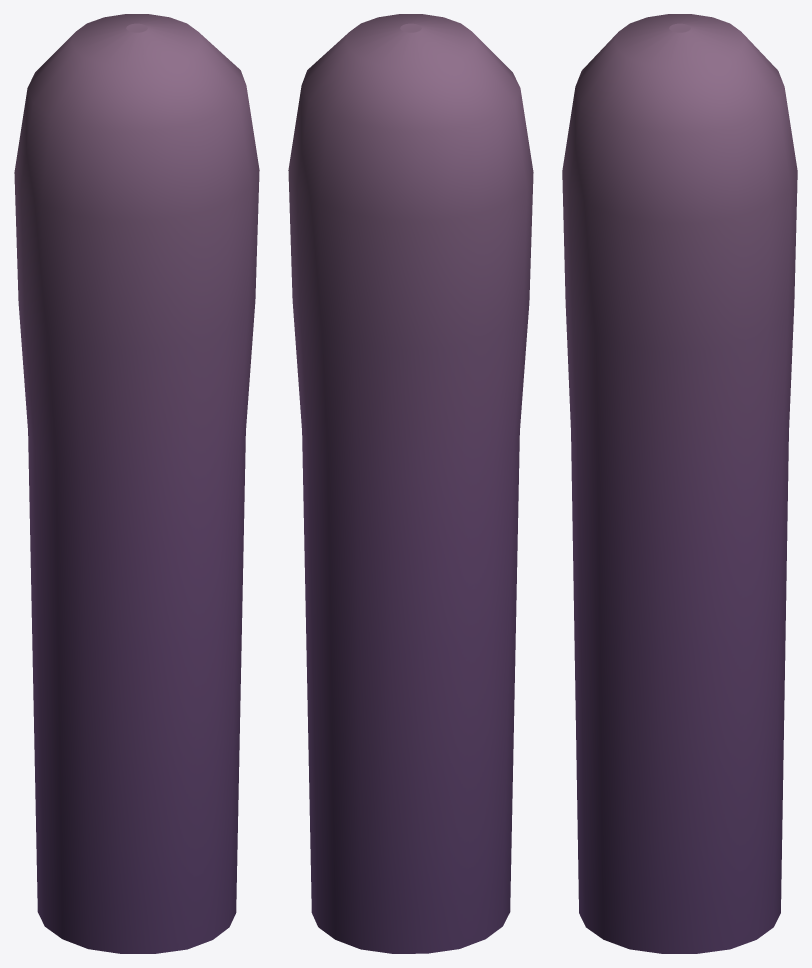
The model's file is merchant_nyra_upper_r.glb.
3 views of the same model, side by side, from view 1: azimuth 30°, elevation 25°; view 2: azimuth 150°, elevation 25°; view 3: azimuth 270°, elevation 25° (orthographic).
Visible parts, largest first — view 1: merchant_nyra_upper_r; view 2: merchant_nyra_upper_r; view 3: merchant_nyra_upper_r.
Part boxes in pixels (left/top/right/bottom): merchant_nyra_upper_r: left=14, top=14, right=259, bottom=953; merchant_nyra_upper_r: left=288, top=14, right=533, bottom=953; merchant_nyra_upper_r: left=562, top=14, right=797, bottom=953.
Bounding box in the file's own units: 0.3238 × 1.29 × 0.3115.
Materials: 1 (1 with a texture image).
